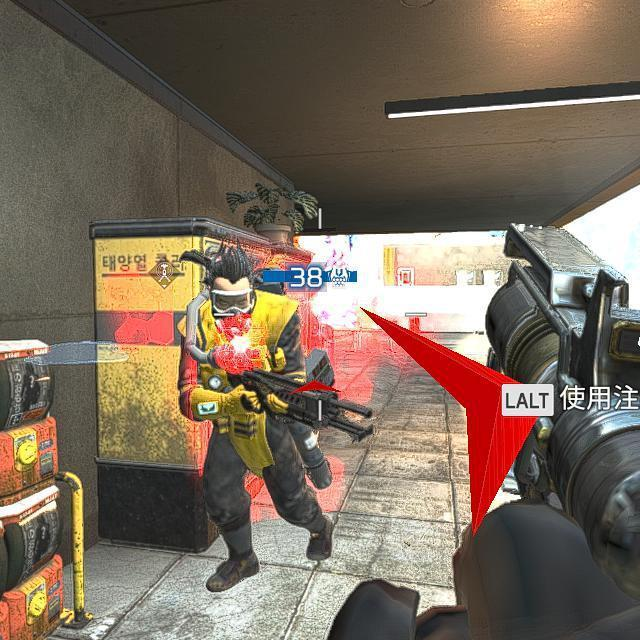avatar: (174, 237, 338, 596)
object: (212, 314, 270, 375)
